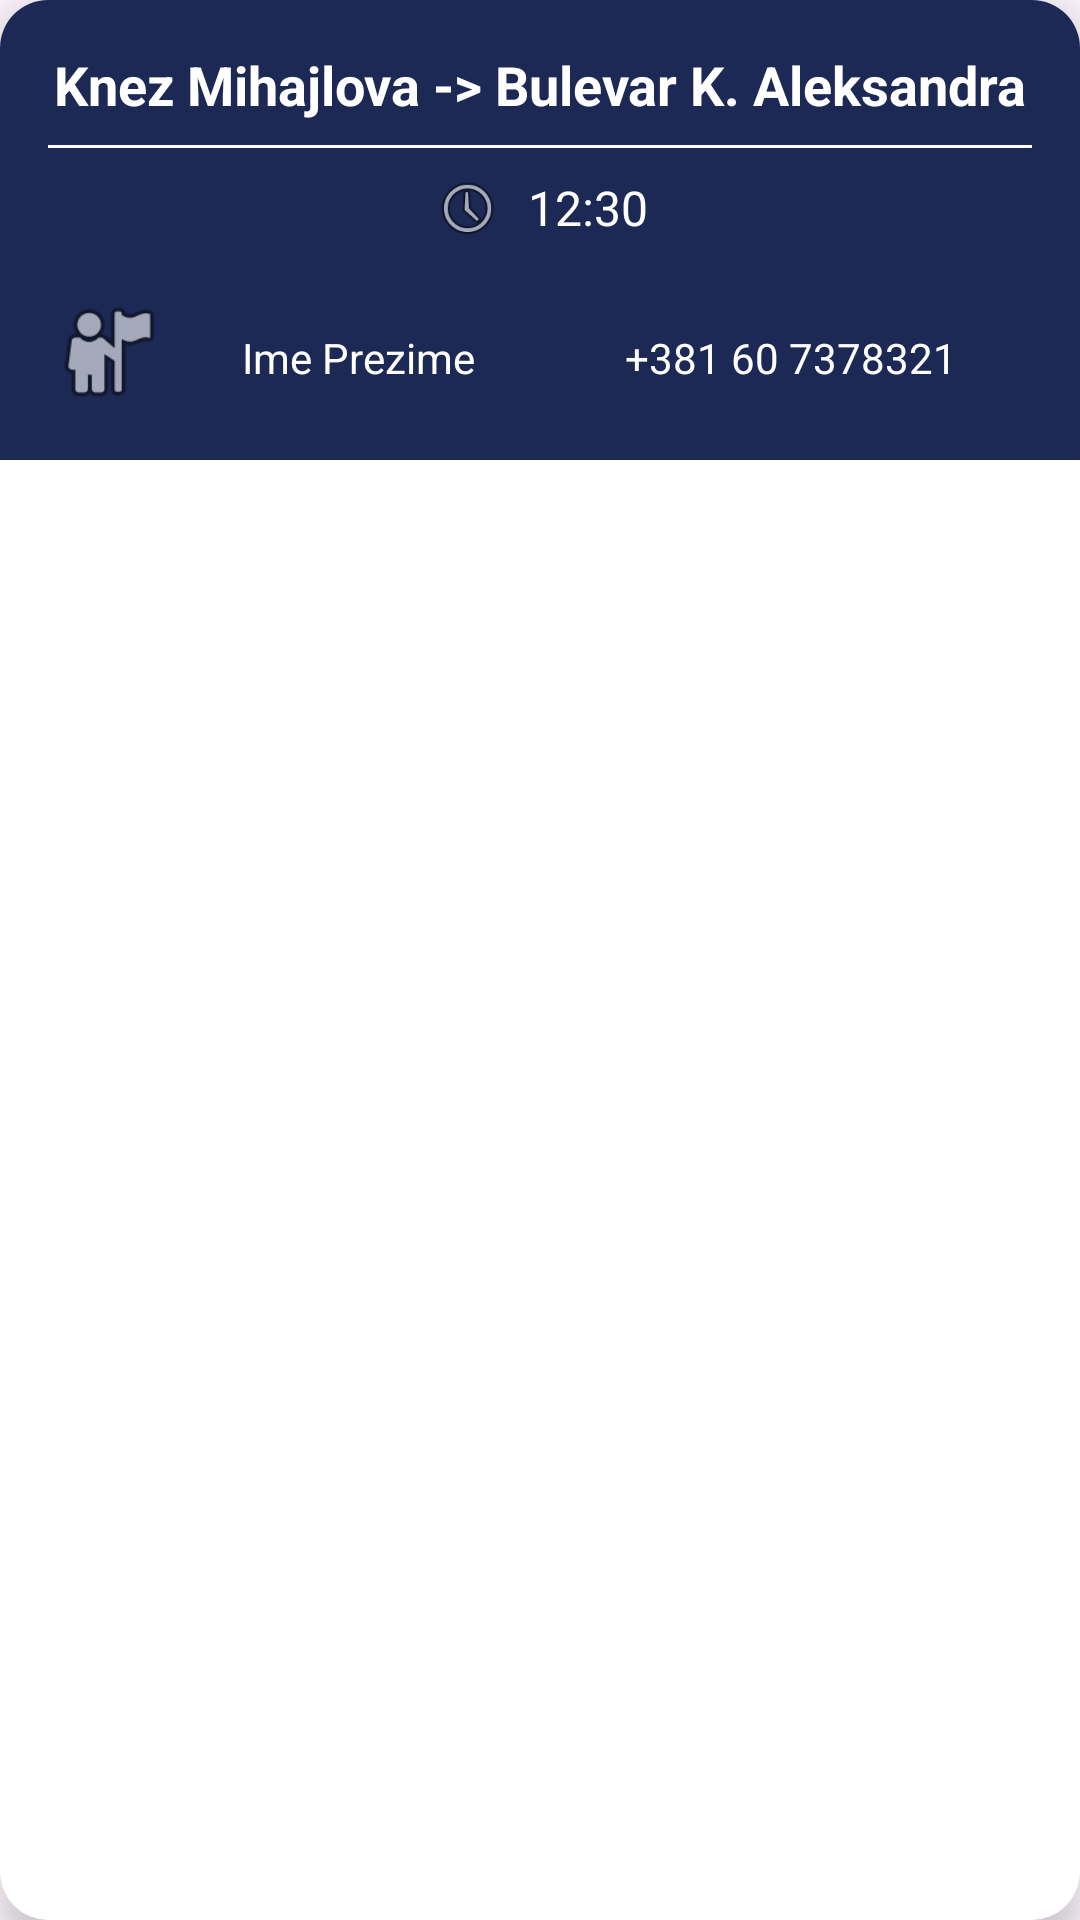

Icon bounding boxes for this 1080*1920 phone screenshot, format [x1,y1,x2,y2]:
recent history: [442,183,493,234]
